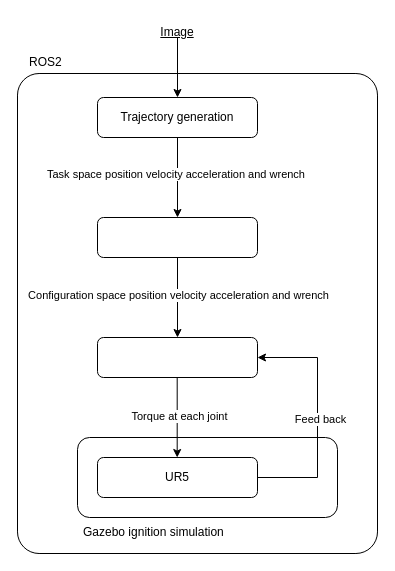
This 395x571 diagram has some shape labels left out. Each missing label, with the centre of its shape:
"Inverse kinematics" belongs at (177,237).
"Torque control system" belongs at (177,357).
